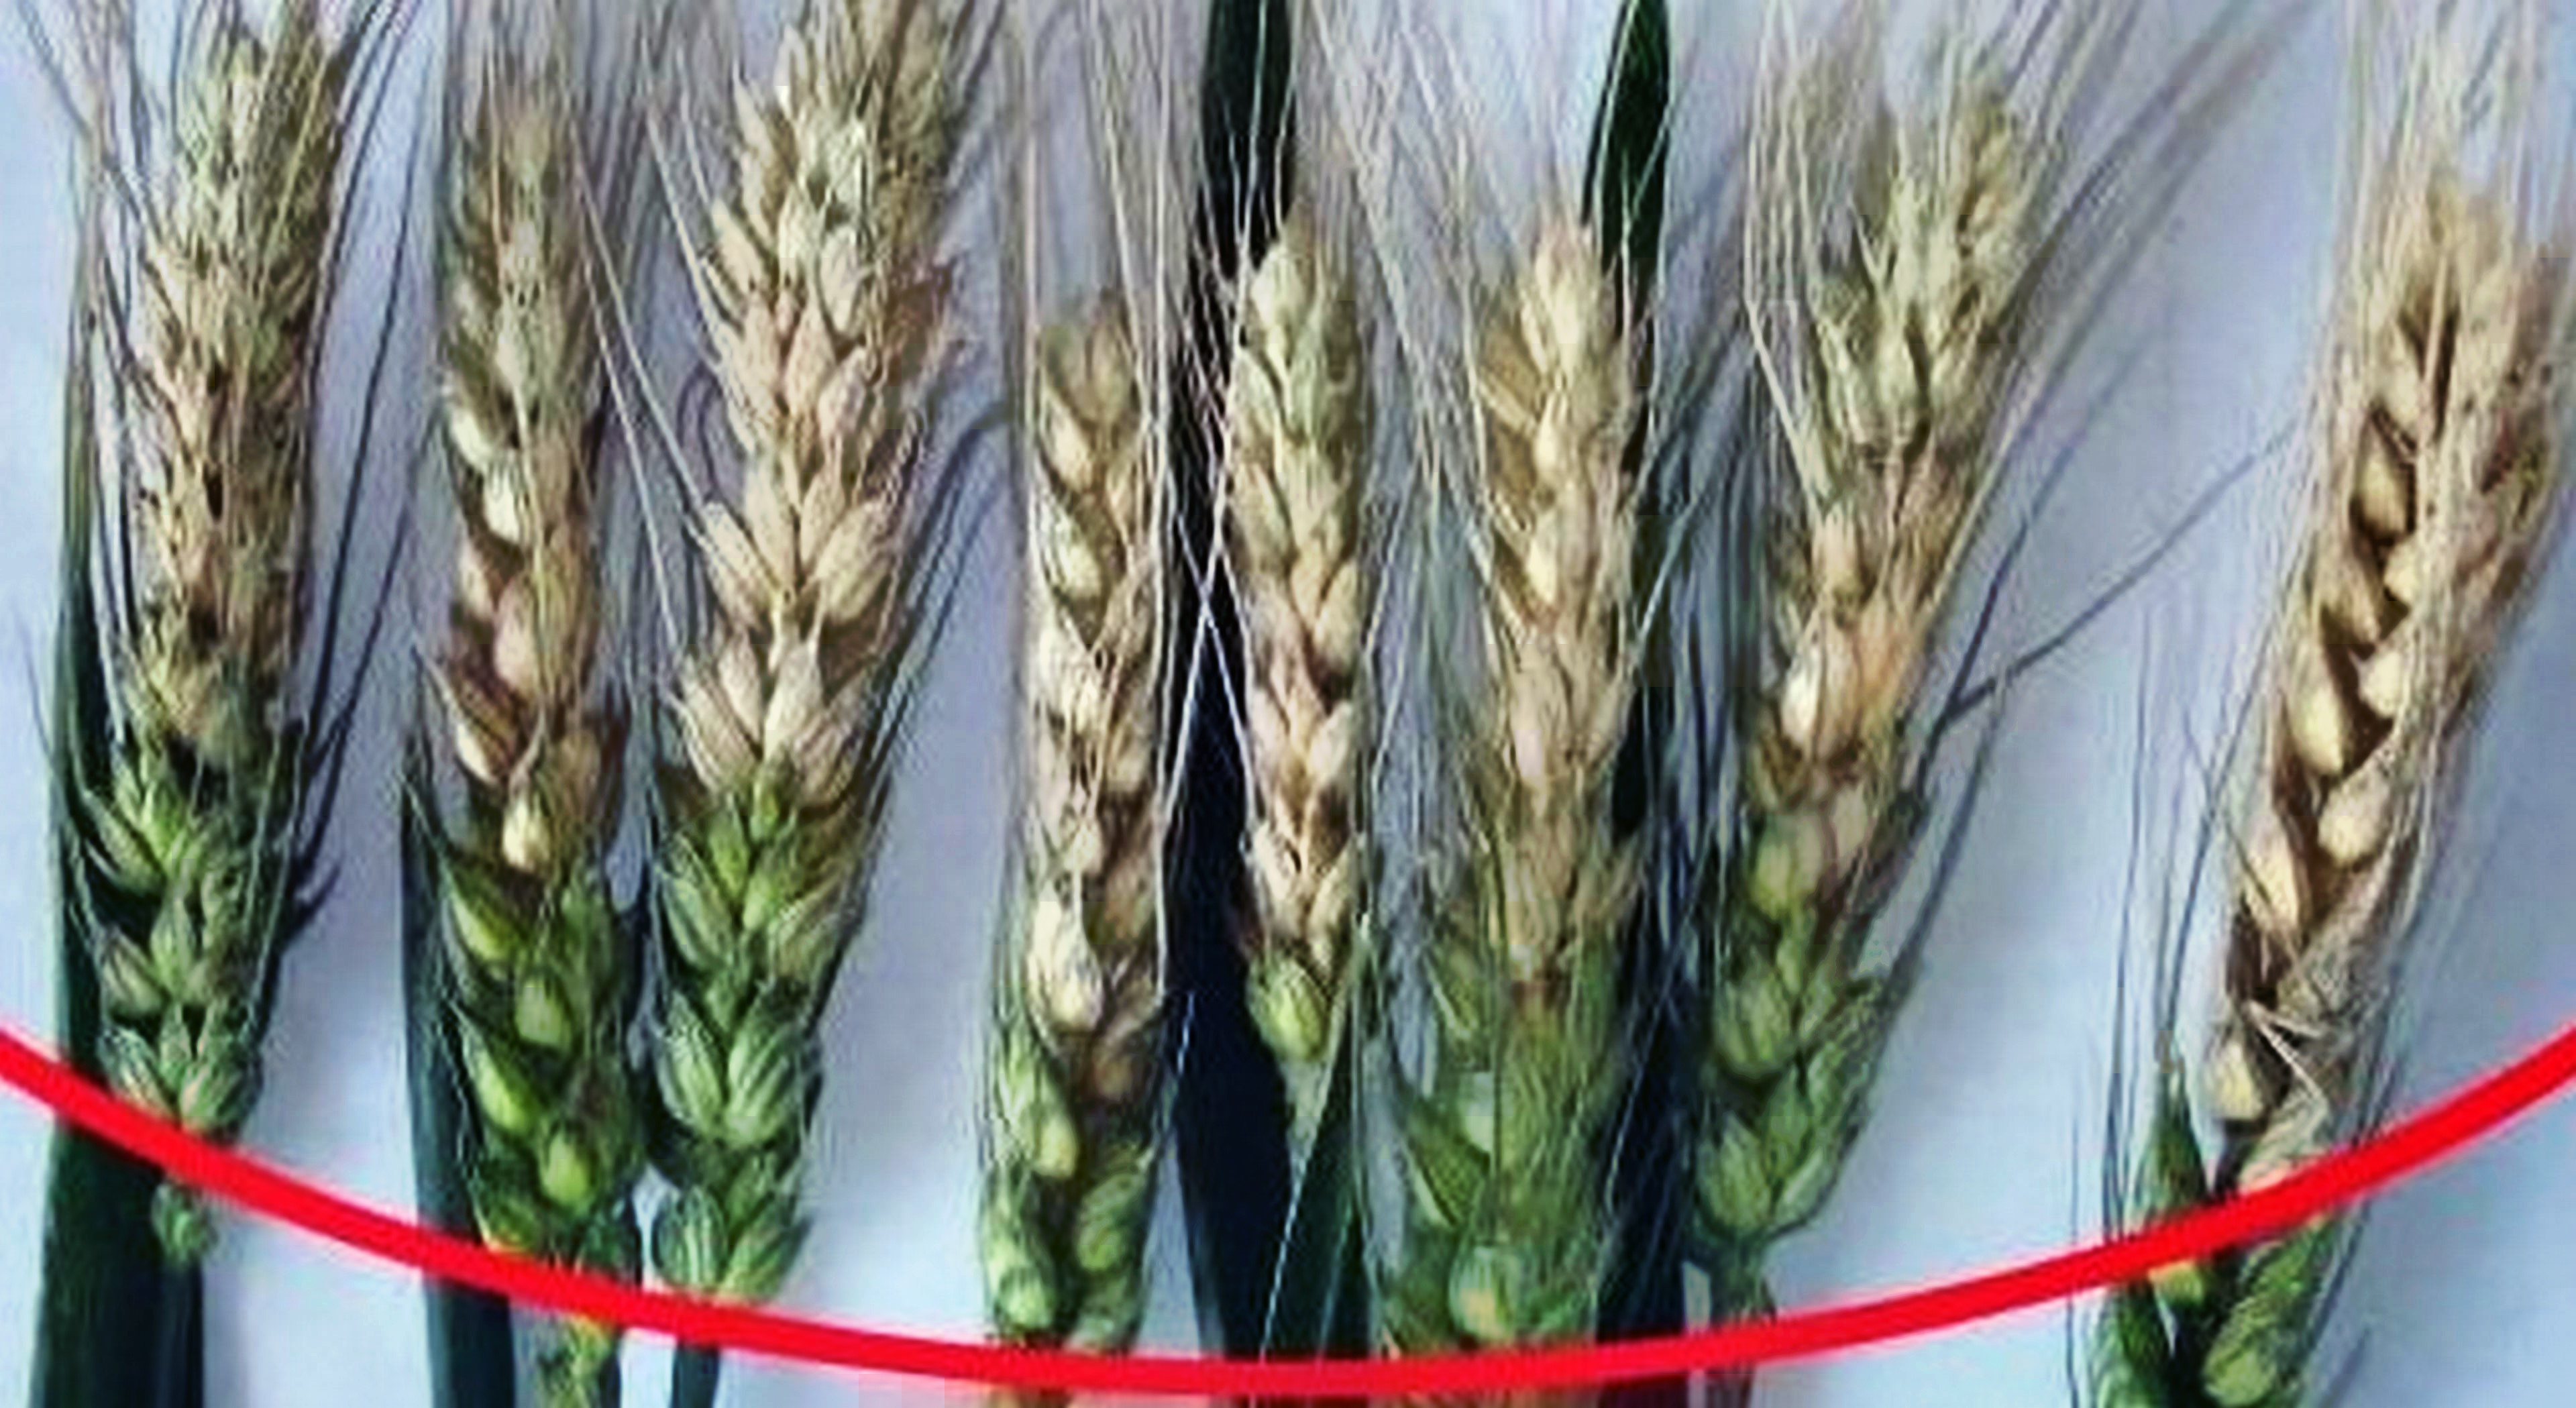Wheat scab: (2101, 163, 2576, 1396), (366, 92, 662, 1302), (667, 5, 943, 1283), (87, 19, 362, 1216), (1404, 194, 1685, 1363), (973, 277, 1217, 1340)
